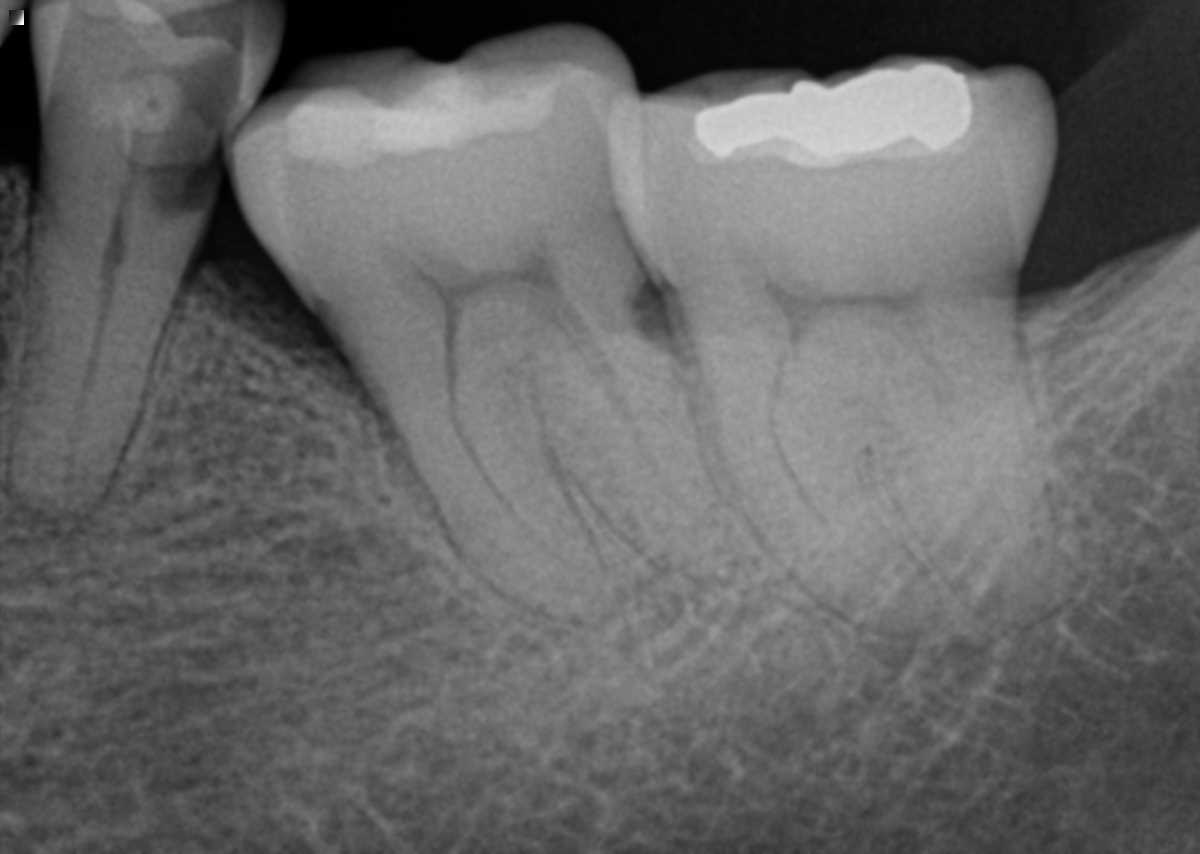Distal Canal: (549, 292, 713, 532), (914, 317, 965, 430)
Distal Root: (876, 300, 1079, 632), (530, 297, 747, 582)
Main Canal: (65, 195, 133, 501)
Main Root: (6, 188, 210, 524)
Mesial Canal: (437, 334, 588, 577), (765, 337, 905, 595)
Mesial Root: (686, 326, 937, 639), (350, 340, 609, 625)
decay: (133, 4, 250, 208), (628, 275, 679, 360)
